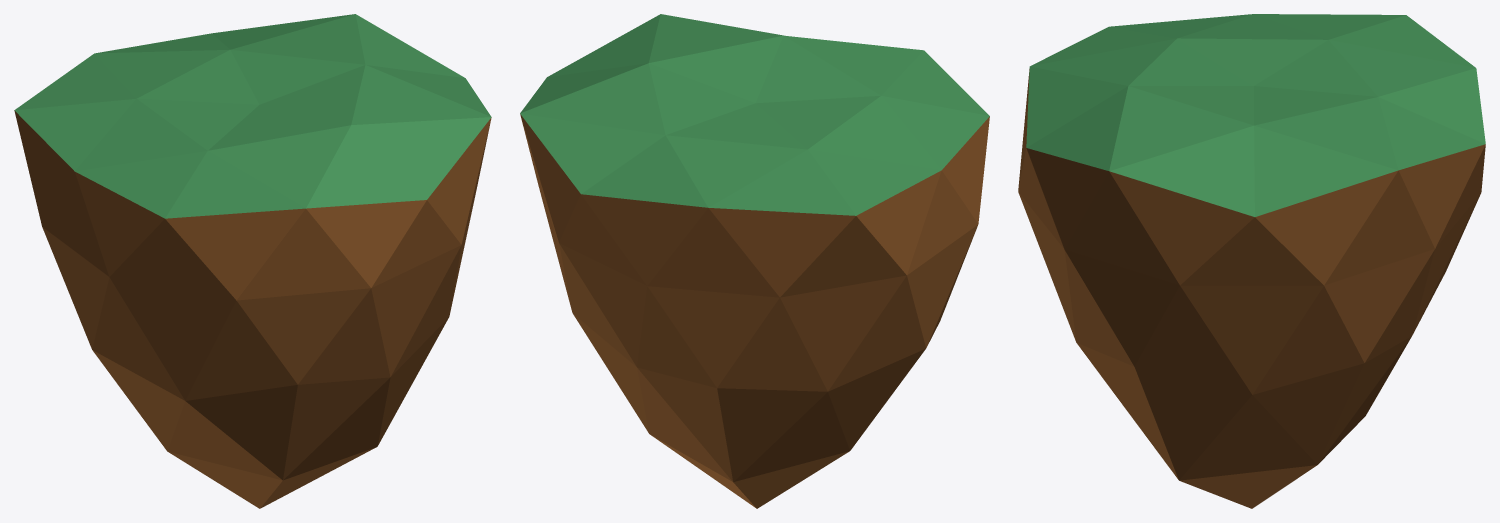
Rendered from Mini_Forest_Island_1.fbx.
3 renders of one model, left to right at view 1: azimuth 30°, elevation 25°; view 2: azimuth 150°, elevation 25°; view 3: azimuth 270°, elevation 25°, orthographic. The views are drawn at different scales.
Parts seen in each view (by area): view 1: Icosphere.243; view 2: Icosphere.243; view 3: Icosphere.243.
Boxes of the visible parts, <box> form: Icosphere.243: <box>14,14,491,508</box>; Icosphere.243: <box>520,14,989,508</box>; Icosphere.243: <box>1018,14,1485,508</box>.
Size of the model in its own units: 4212 by 4297 by 4143.
